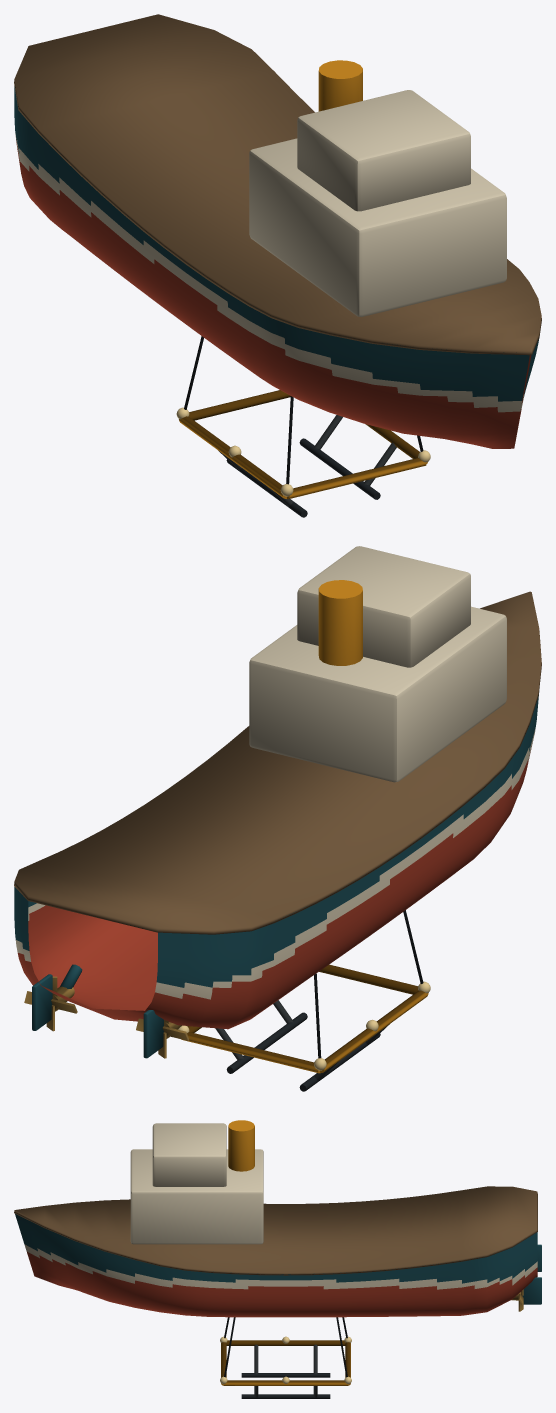
The model's file is mothership.glb.
The picture shows the model from 3 angles, top to bottom: view 1: azimuth 30°, elevation 25°; view 2: azimuth 150°, elevation 25°; view 3: azimuth 270°, elevation 25°; orthographic projection. The views are drawn at different scales.
Parts seen in each view (by area): view 1: mothership; view 2: mothership; view 3: mothership.
Boxes of the visible parts, x1,y1,x2,y2 form: mothership: (14,14,541,517); mothership: (14,546,541,1091); mothership: (14,1120,541,1398).
Bounding box in the file's own units: 11 × 19.56 × 35.68.
